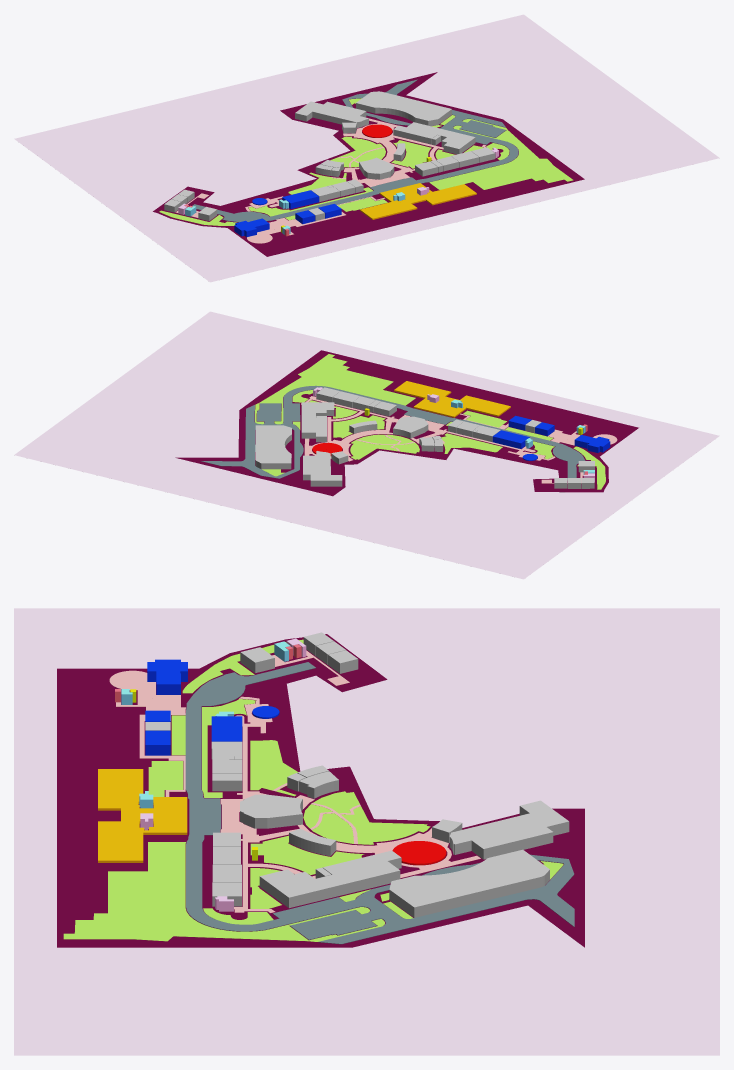
File: njc-l1-materialdiff.glb
The picture shows the model from 3 angles, top to bottom: view 1: azimuth 30°, elevation 25°; view 2: azimuth 150°, elevation 25°; view 3: azimuth 270°, elevation 25°; orthographic projection. The views are drawn at different scales.
Parts seen in each view (by area): view 1: Grey, Base, None, Grass, Drive, Foot, Canteen | 45, Dance Studio 03, Sanctuary; view 2: Grey, Base, None, Grass, Drive, Foot, Canteen | 45, Dance Studio 03, Sanctuary; view 3: Grey, Base, None, Grass, Drive, Foot, Canteen | 45, Dance Studio 03, Atrium | 30, Sanctuary.
Boxes of the visible parts, x1,y1,x2,y2 form: Grey: (14,14,719,282); Base: (153,72,584,256); None: (164,91,495,220); Grass: (159,98,573,225); Drive: (192,79,518,222); Foot: (175,118,486,243); Canteen | 45: (360,183,476,219); Dance Studio 03: (234,218,269,237); Sanctuary: (282,190,319,208); Grey: (14,311,719,579); Base: (175,350,638,496); None: (255,387,594,488); Grass: (255,354,605,489); Drive: (200,385,585,480); Foot: (301,396,617,483); Canteen | 45: (394,381,510,417); Dance Studio 03: (574,435,610,452); Sanctuary: (492,430,529,448); Grey: (14,608,719,1055); Base: (57,634,584,947); None: (145,632,569,917); Grass: (63,639,563,941); Drive: (185,662,574,944); Foot: (109,650,480,913); Canteen | 45: (98,769,187,862); Dance Studio 03: (147,659,187,694); Atrium | 30: (392,841,446,865); Sanctuary: (211,716,242,741).
Size of the model in its own units: 18 by 0.2 by 12.
